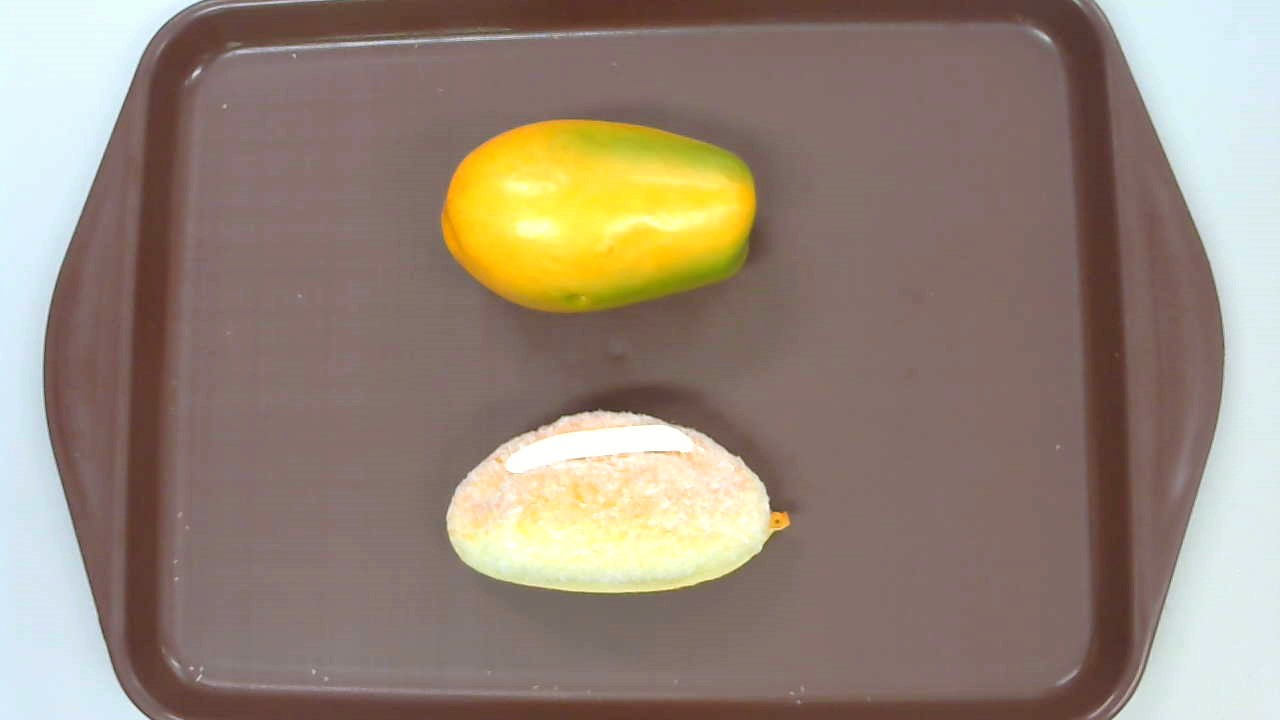coconut: (446, 410, 792, 593)
papya: (439, 118, 758, 314)
